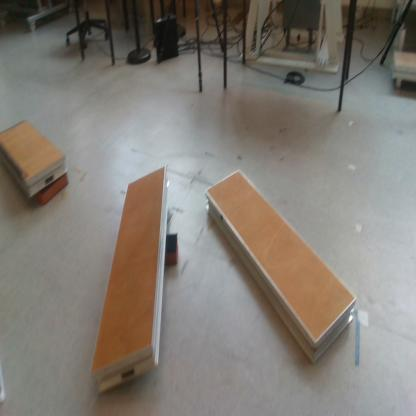Stairs: (206, 170, 358, 370), (87, 165, 170, 396), (2, 118, 69, 200)
